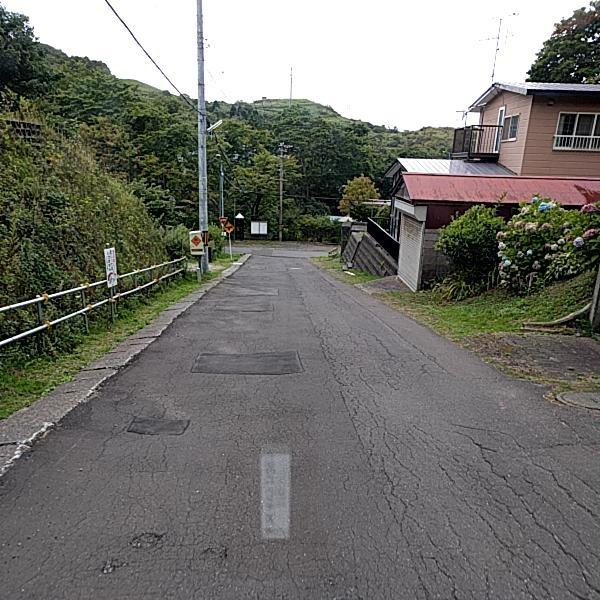pothole: (96, 554, 125, 573), (135, 529, 163, 546)
